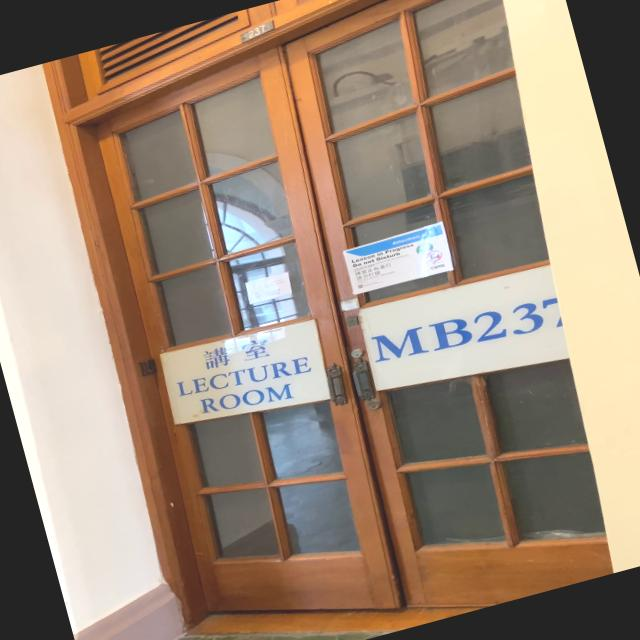room237: (235, 18, 278, 46)
